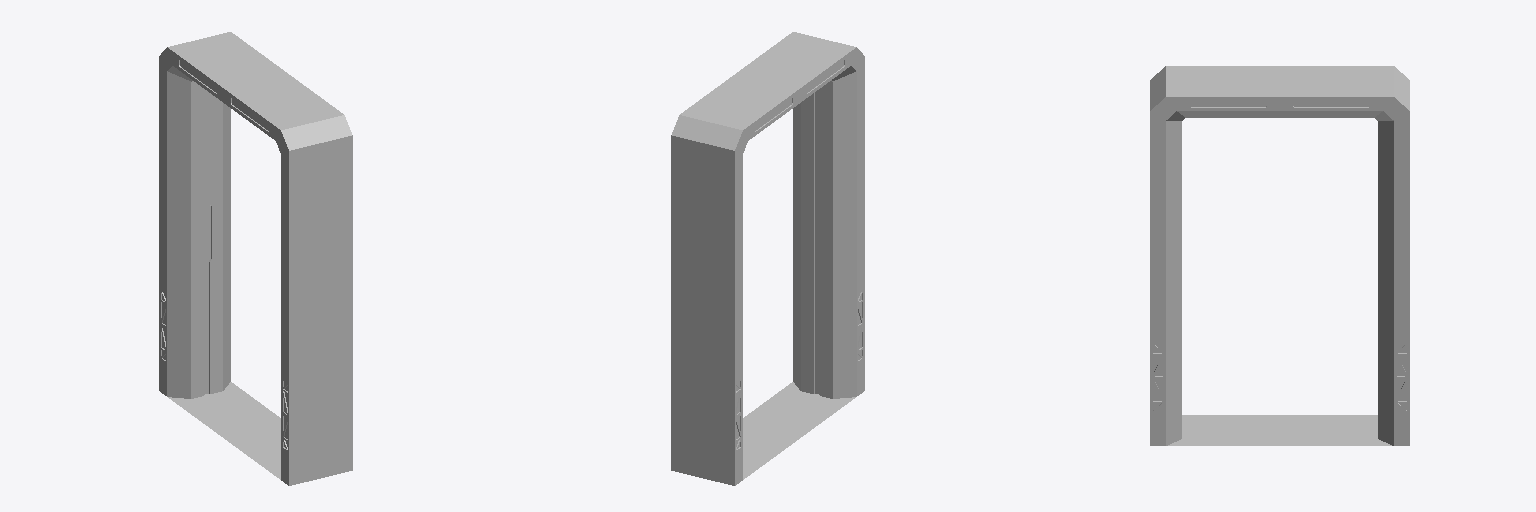
The model's file is Door Frame.obj.
3 views of the same model, side by side, from view 1: azimuth 30°, elevation 25°; view 2: azimuth 150°, elevation 25°; view 3: azimuth 270°, elevation 25° (orthographic).
Visible parts, largest first — view 1: SketchUp_ID3; view 2: SketchUp_ID3; view 3: SketchUp_ID3, SketchUp.040_ID245, SketchUp.039_ID239.
Boxes of the visible parts, <box> form: SketchUp_ID3: <box>159,32,352,485</box>; SketchUp_ID3: <box>671,32,864,485</box>; SketchUp_ID3: <box>1150,66,1409,445</box>; SketchUp.040_ID245: <box>1190,100,1266,107</box>; SketchUp.039_ID239: <box>1293,100,1369,107</box>.
Bounding box in the file's own units: 0.5708 × 3 × 2.02.